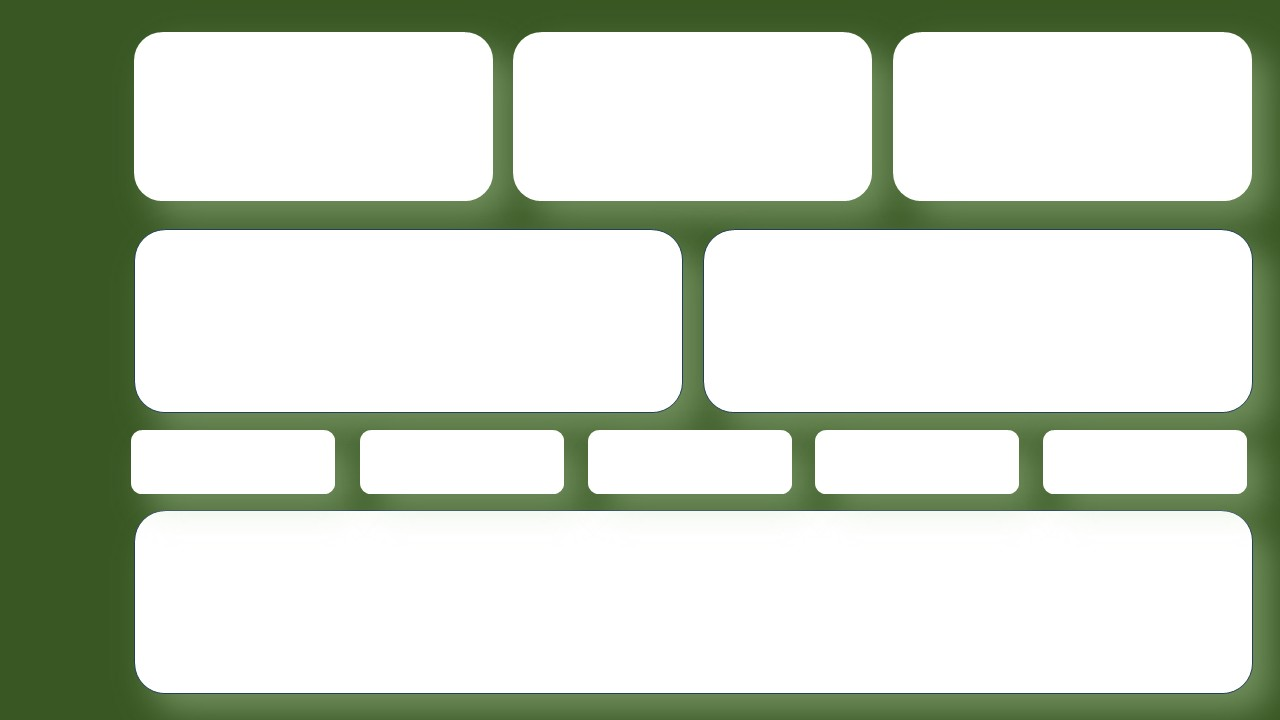

This screenshot's page, from the dashboard's own definition file:
{"tool":"powerbi","page":{"name":"Domů","canvas":[1280,720],"ordinal":0},"visuals":[{"type":"actionButton","box":[8.4,20.5,118.2,113.4],"z":0},{"type":"actionButton","box":[7.2,205.1,119.4,119.4],"z":1000},{"type":"actionButton","box":[7.2,445.2,120.6,120.6],"z":2000},{"type":"actionButton","box":[8.4,323.3,119.4,119.4],"z":3000}]}

Visuals, with their boxes in screenshot pixels (x1, y1, x2, y2), scaled from the page's 1280x720 canvas onto the 1280x720 screenshot:
actionButton: (8,20,127,134)
actionButton: (7,205,127,324)
actionButton: (7,445,128,566)
actionButton: (8,323,128,443)
